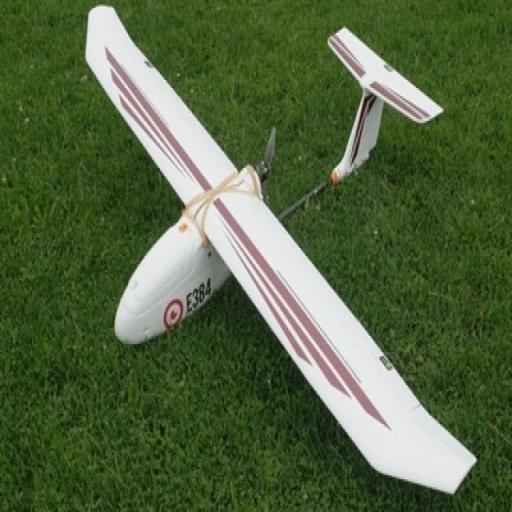uav: (76, 4, 485, 502)
